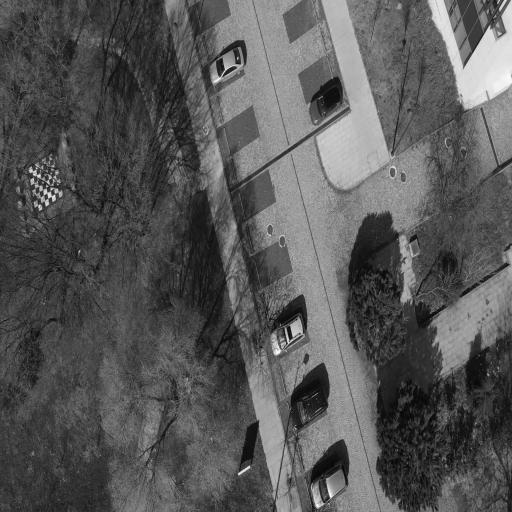person: (310, 461, 348, 510), (291, 382, 327, 429), (270, 313, 306, 355), (310, 82, 342, 125), (210, 47, 245, 85)
